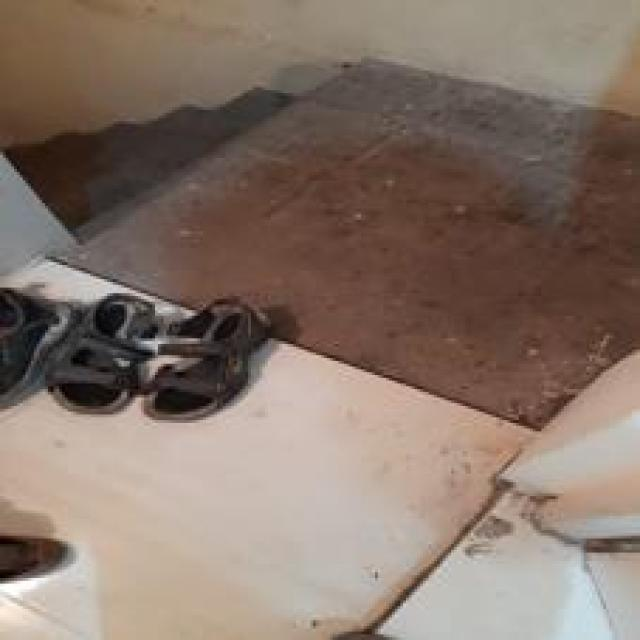downstair: (46, 71, 303, 221)
